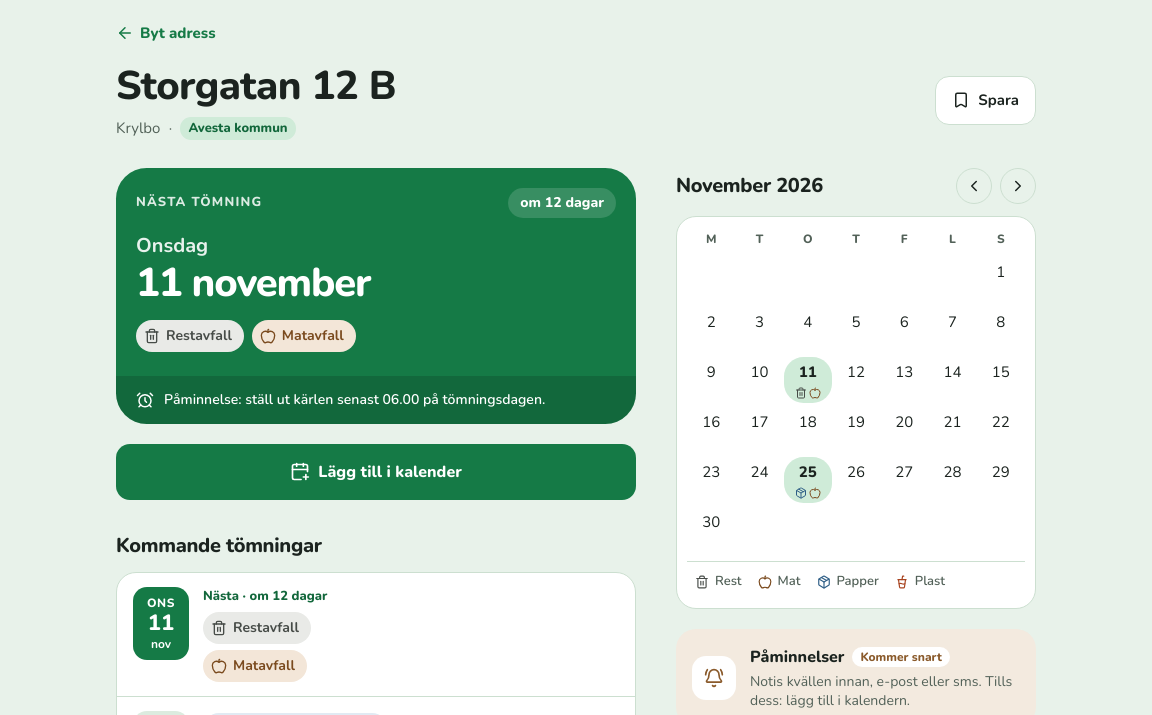
ResultPage › har månadskalender med prickar och bläddring
Check: the button named "Föregående månad" is enabled, box x1=956 y1=168 x2=992 y2=204
Check: the button named "11 november: Restavfall, Matavfall" is shown, box x1=784 y1=357 x2=832 y2=403
Click the button named "Nästa månad": [1018, 186] box x1=1000 y1=168 x2=1036 y2=204
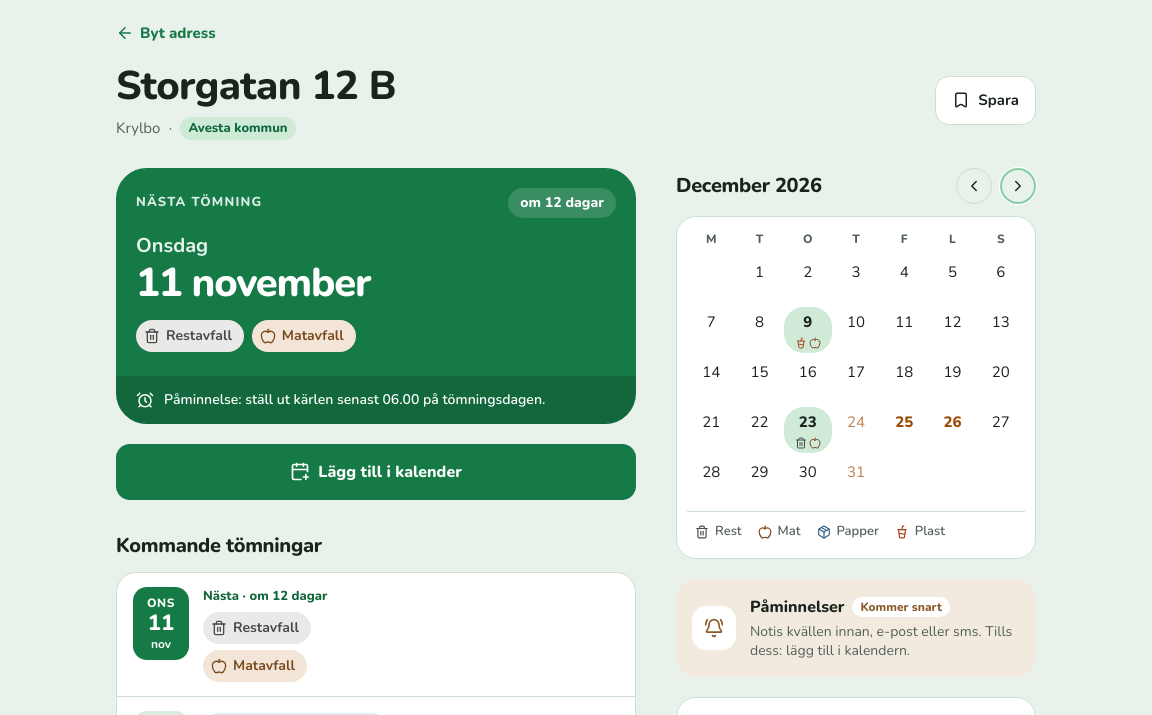
Check: the button named "9 december: Plastförpackningar, Matavfall" is shown, box x1=784 y1=307 x2=832 y2=353
Check: the button named "23 december: Restavfall, Matavfall" is shown, box x1=784 y1=407 x2=832 y2=453
Click the button named "Nästa månad": [1018, 186] box x1=1000 y1=168 x2=1036 y2=204
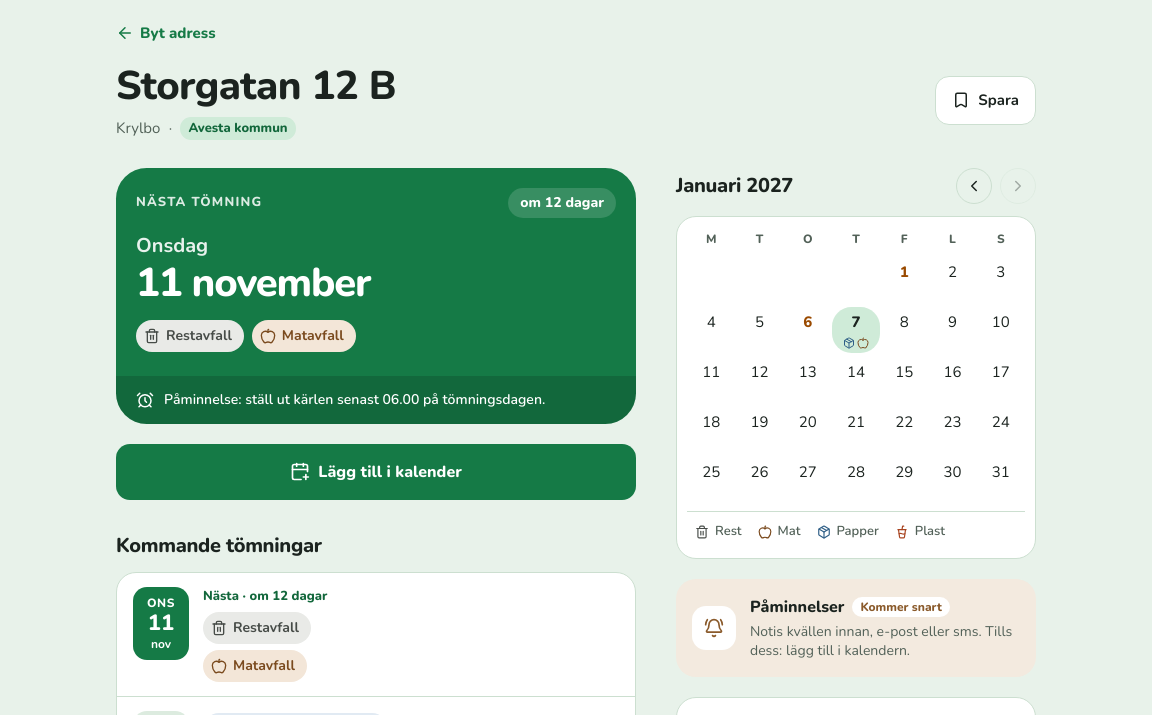
Check: the button named "Nästa månad" is disabled, box x1=1000 y1=168 x2=1036 y2=204
